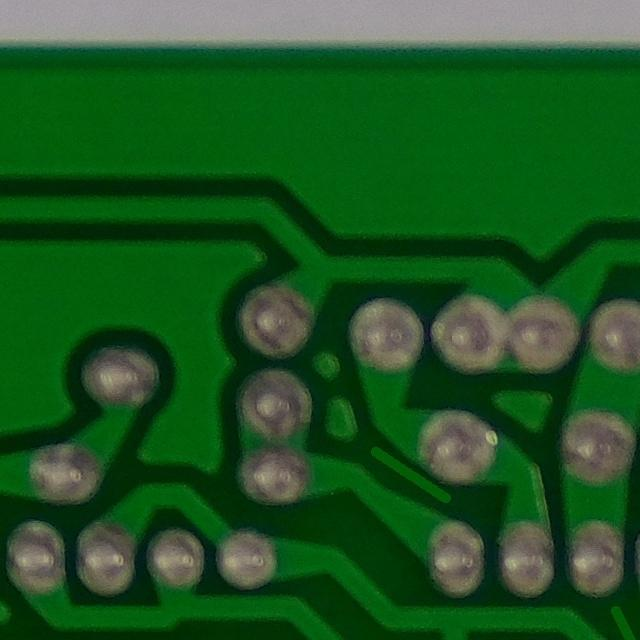spurious_copper: (362, 439, 460, 512), (595, 584, 640, 640)
